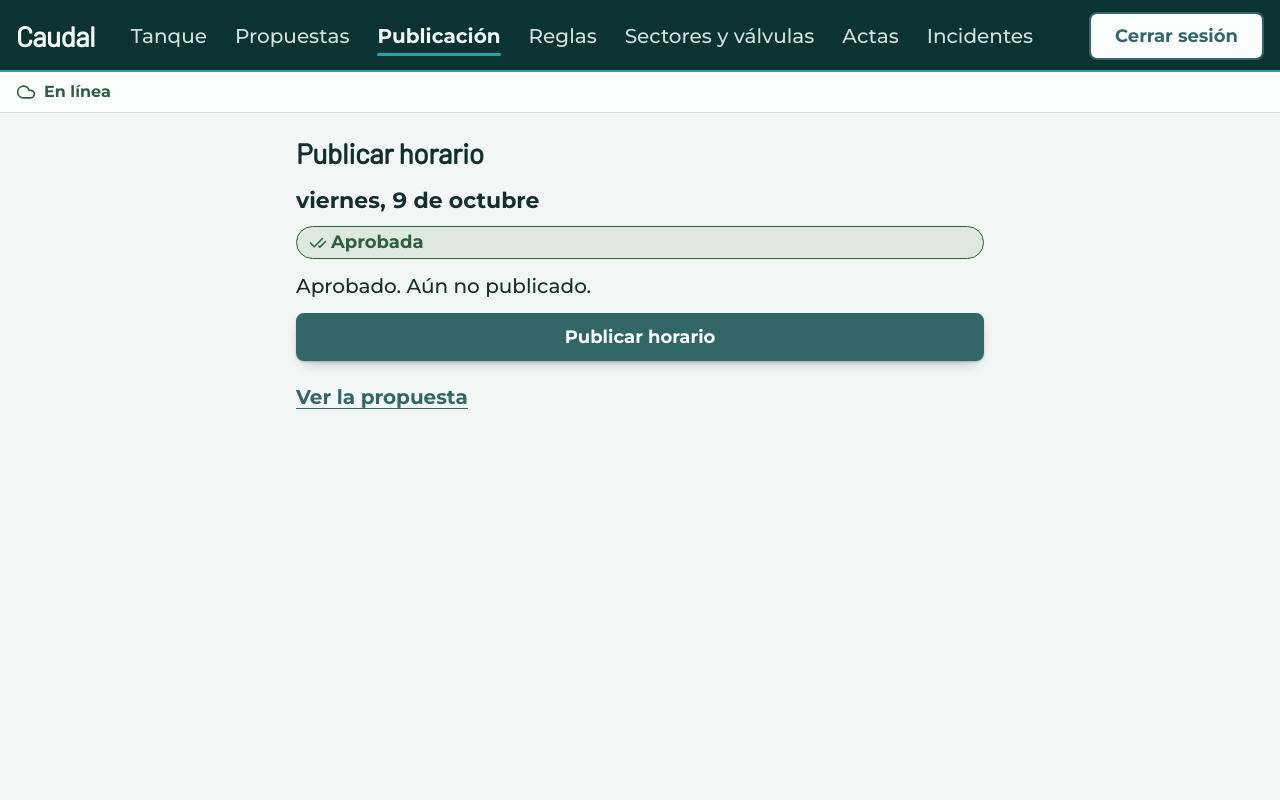
Test: proposal decisions (S13 approve, reject; S15 publish) › publishes an approved schedule after the confirmation text
Click the button "Publicar horario".
click(640, 338)  # box [296,314,984,362]
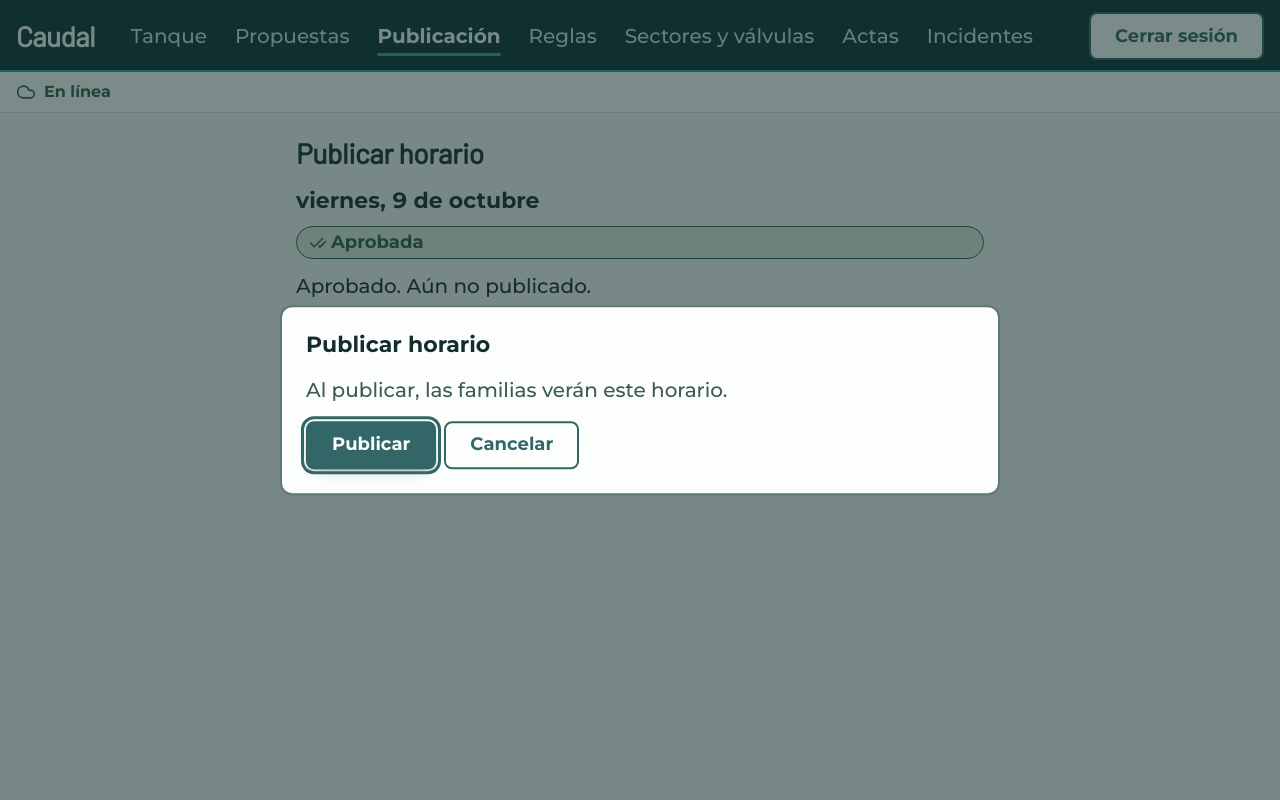
Expected: the text "Al publicar, las familias verán este horario." is shown, [306,378,727,402]
Click the button "Publicar".
click(371, 445)  # box [306,421,436,469]
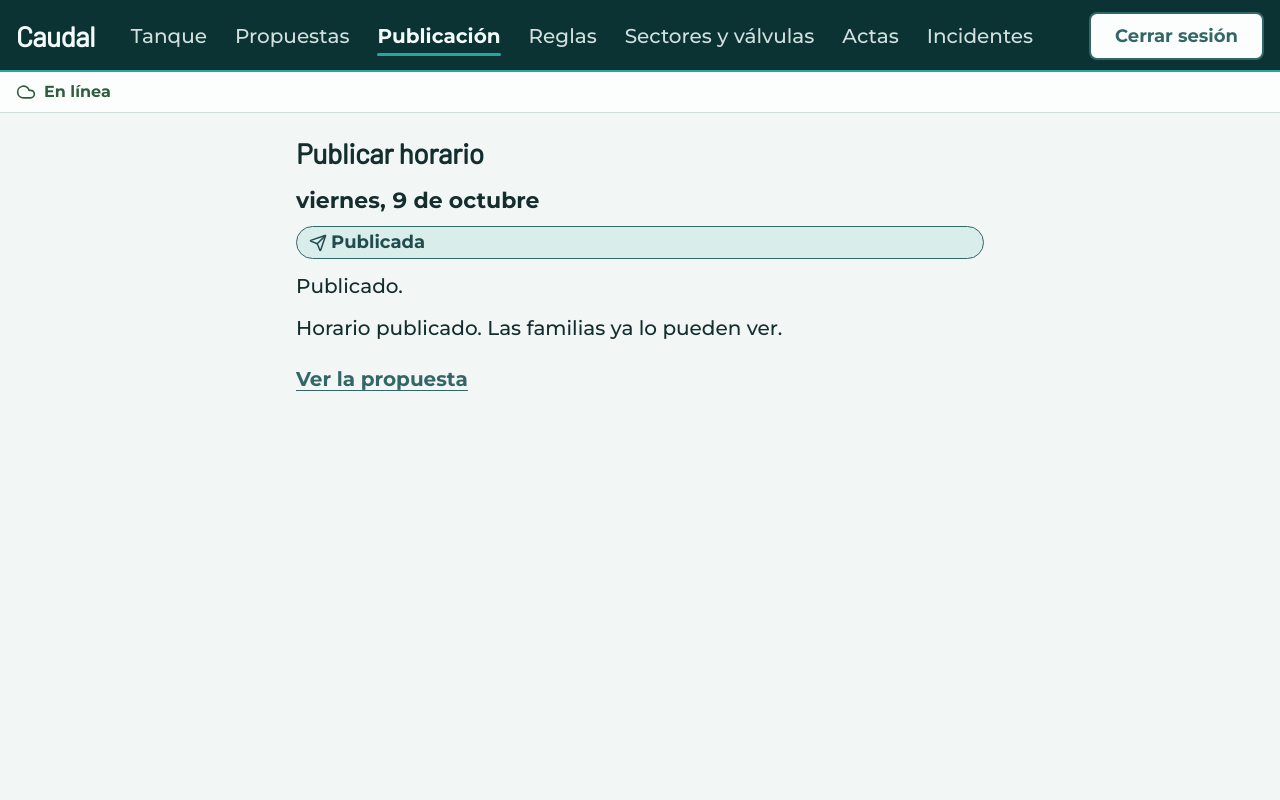
Expected: the text "Horario publicado. Las familias ya lo pueden ver." is shown, [296,316,782,340]
